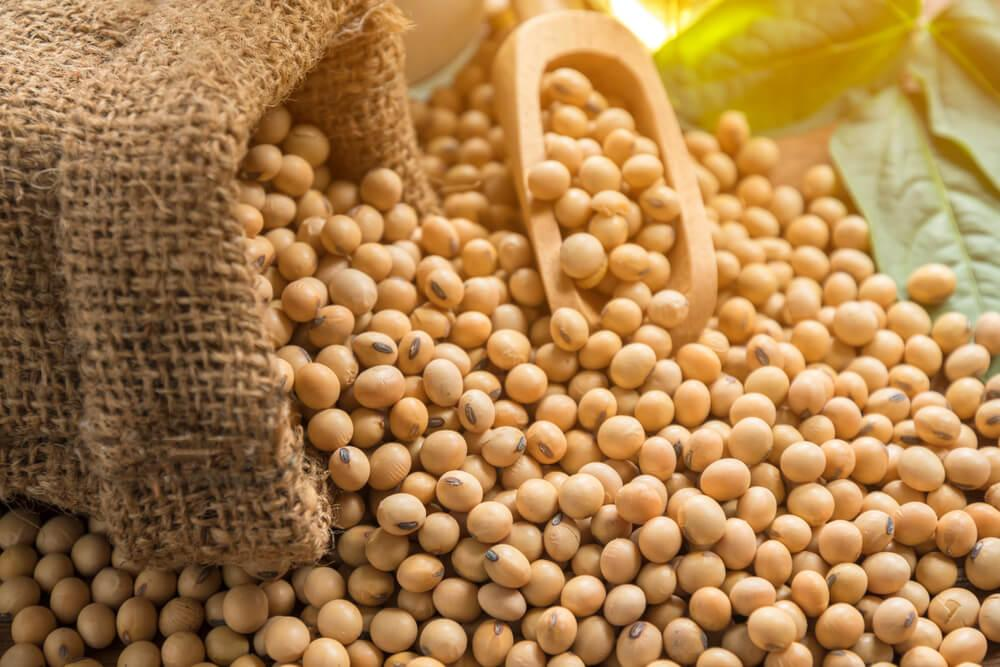soy beans: (2, 37, 997, 665)
